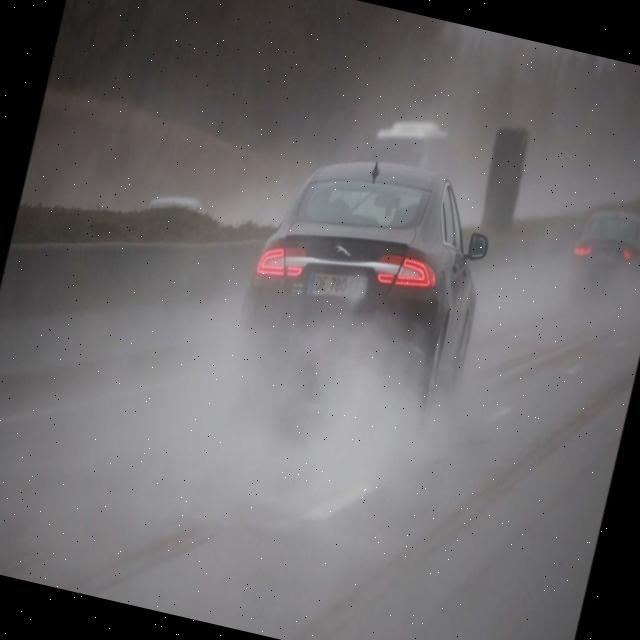car: (236, 136, 508, 410), (565, 199, 640, 286)
